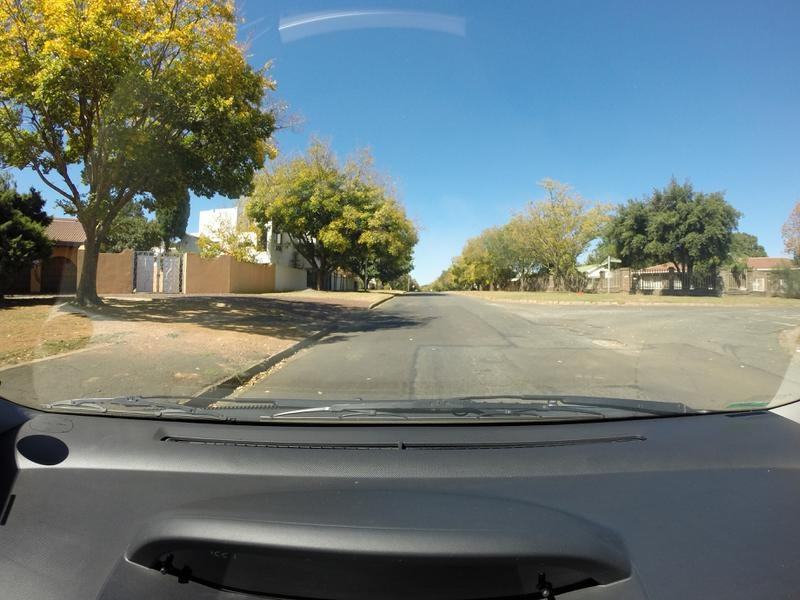pothole: (587, 333, 651, 355)
